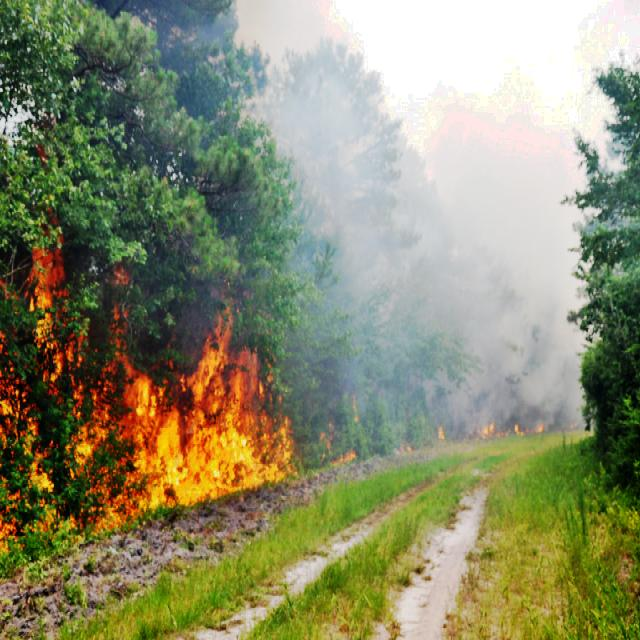api: (12, 230, 301, 525)
asap: (262, 1, 598, 431)
